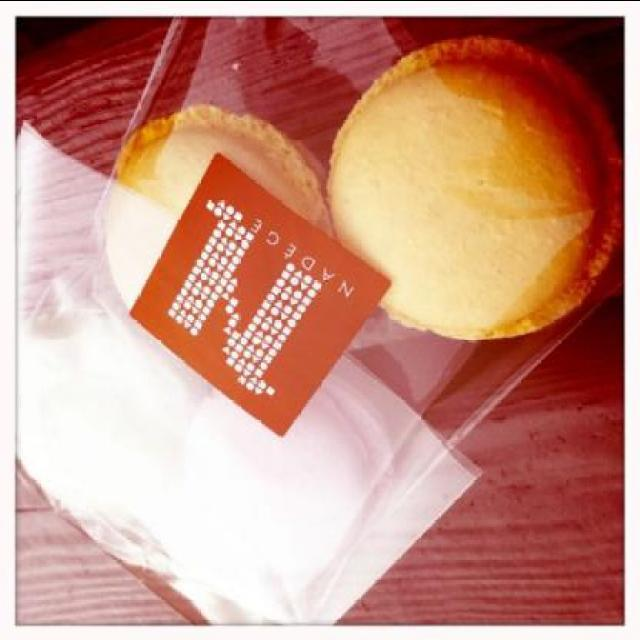Macaron: (98, 8, 640, 392)
